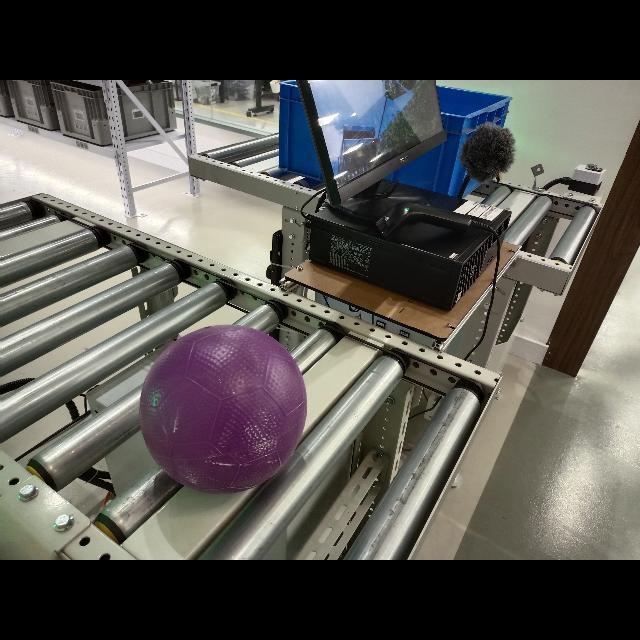P: (141, 325, 307, 495)
